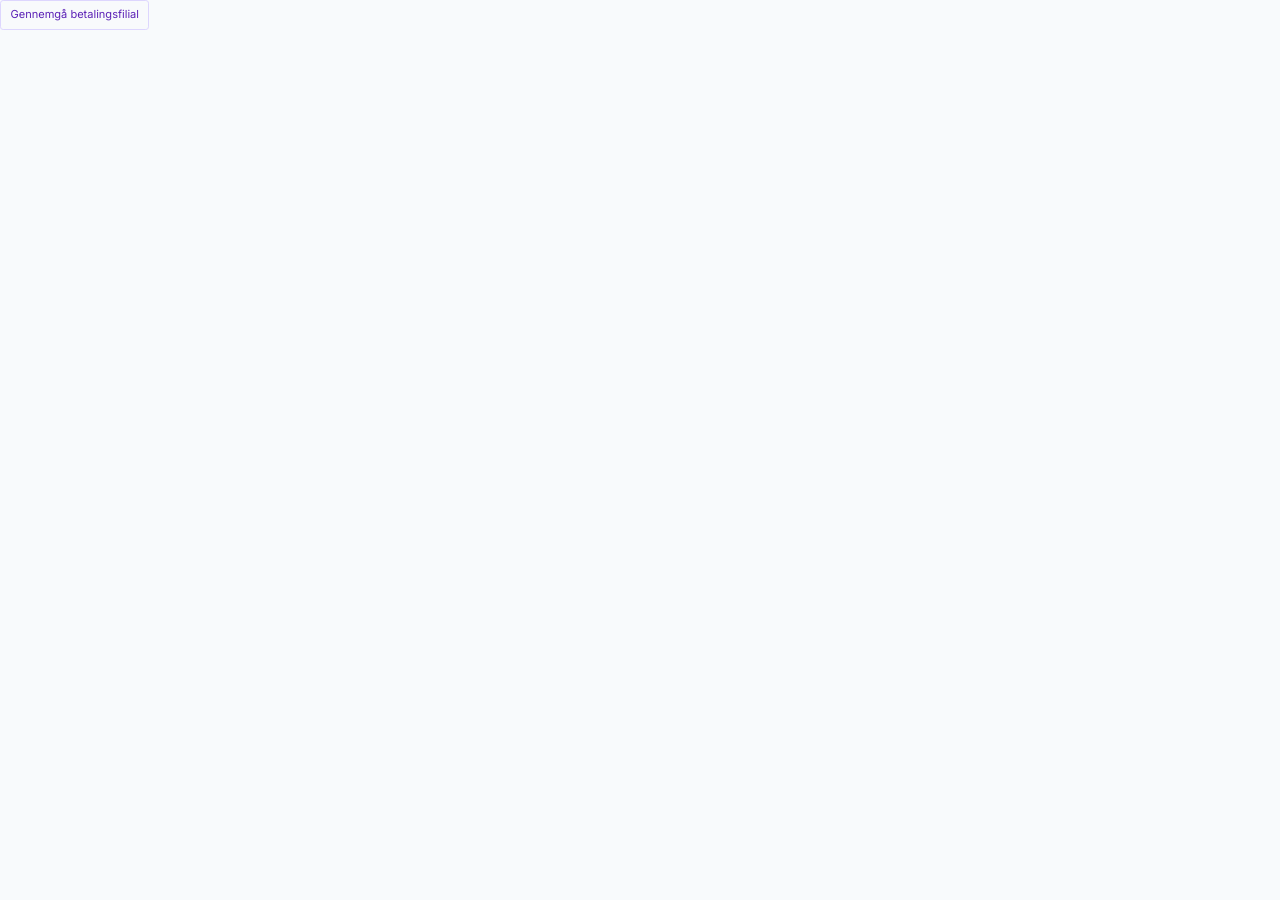
Test: Backend approval lifecycle UI › sends only the financial decision and version after explicit END confirmation
Later steps or results of the test are not shown.
Click the button "Gennemgå betalingsfilial": [75, 15] box top-left (0, 0), bottom-right (149, 30)
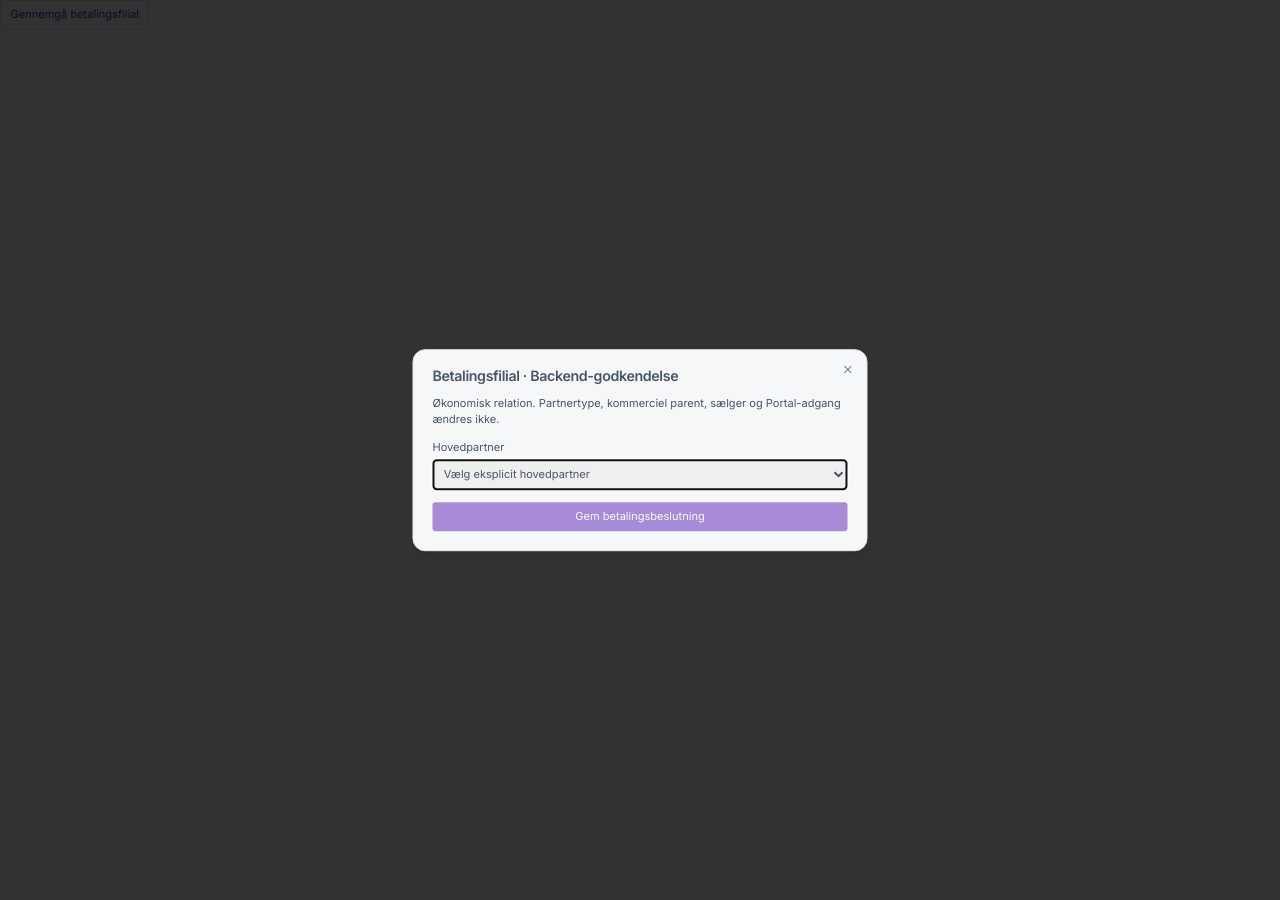
Select "Integra Group · #10451" in the dropdown labelled "Hovedpartner": [640, 474] box top-left (432, 459), bottom-right (848, 490)
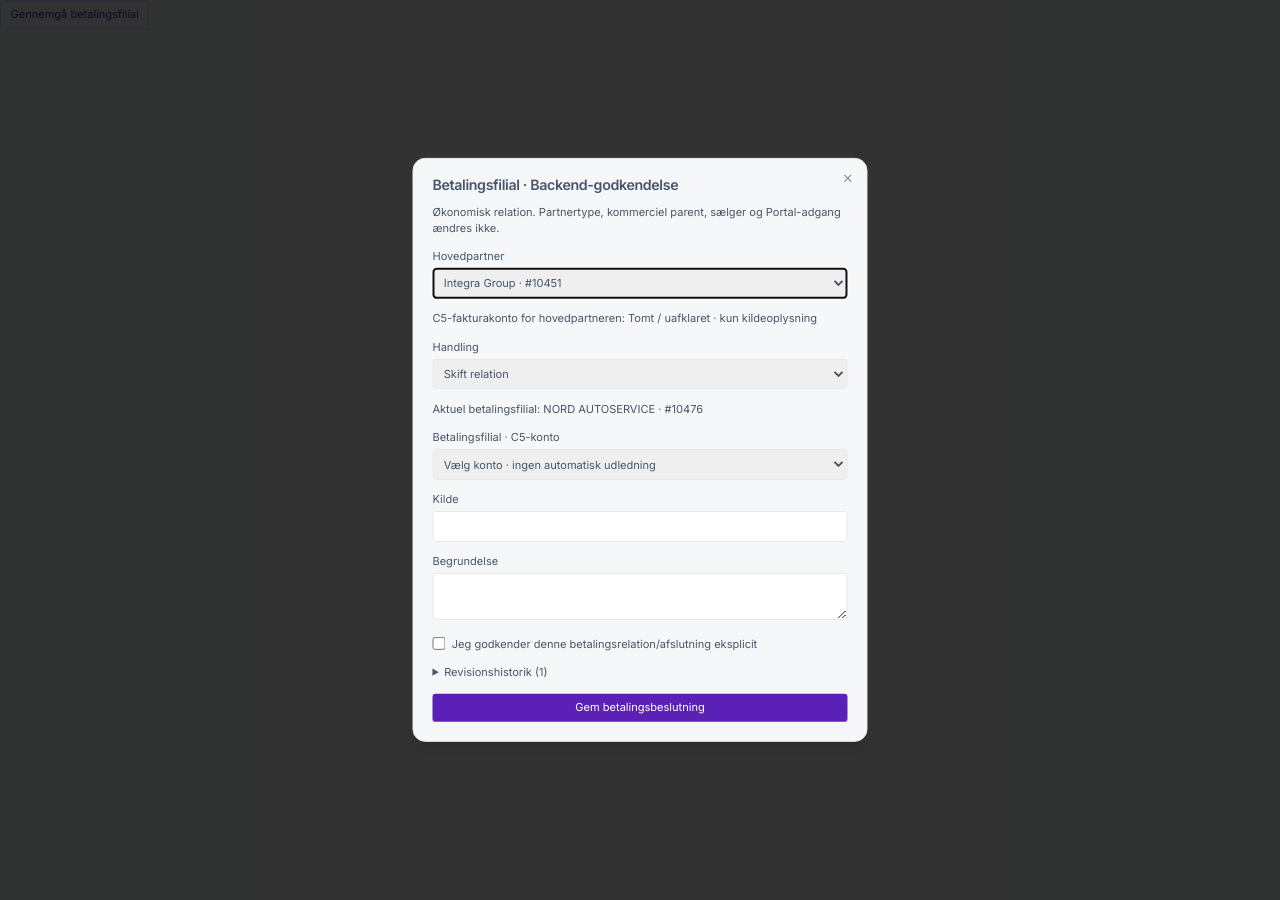
Result: the dropdown labelled "Handling" is shown at top-left (432, 358), bottom-right (848, 389)
